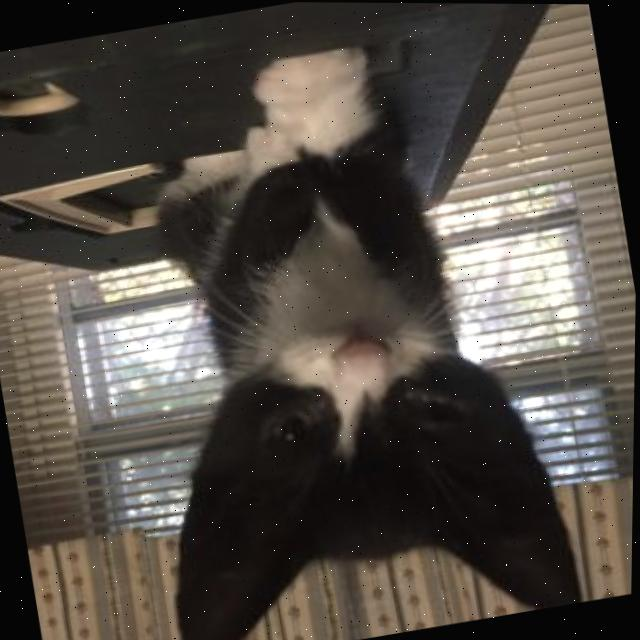Tuxedo: (76, 9, 597, 640)
